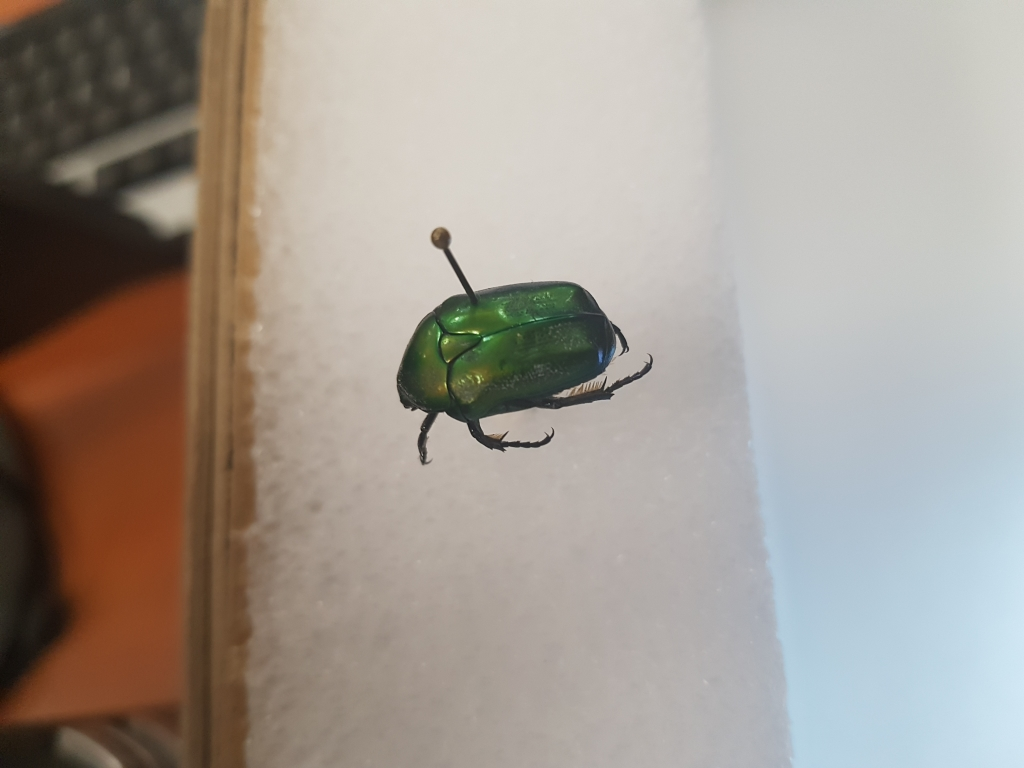Protaetia_cuprea_ignicollis: (398, 270, 671, 477)
